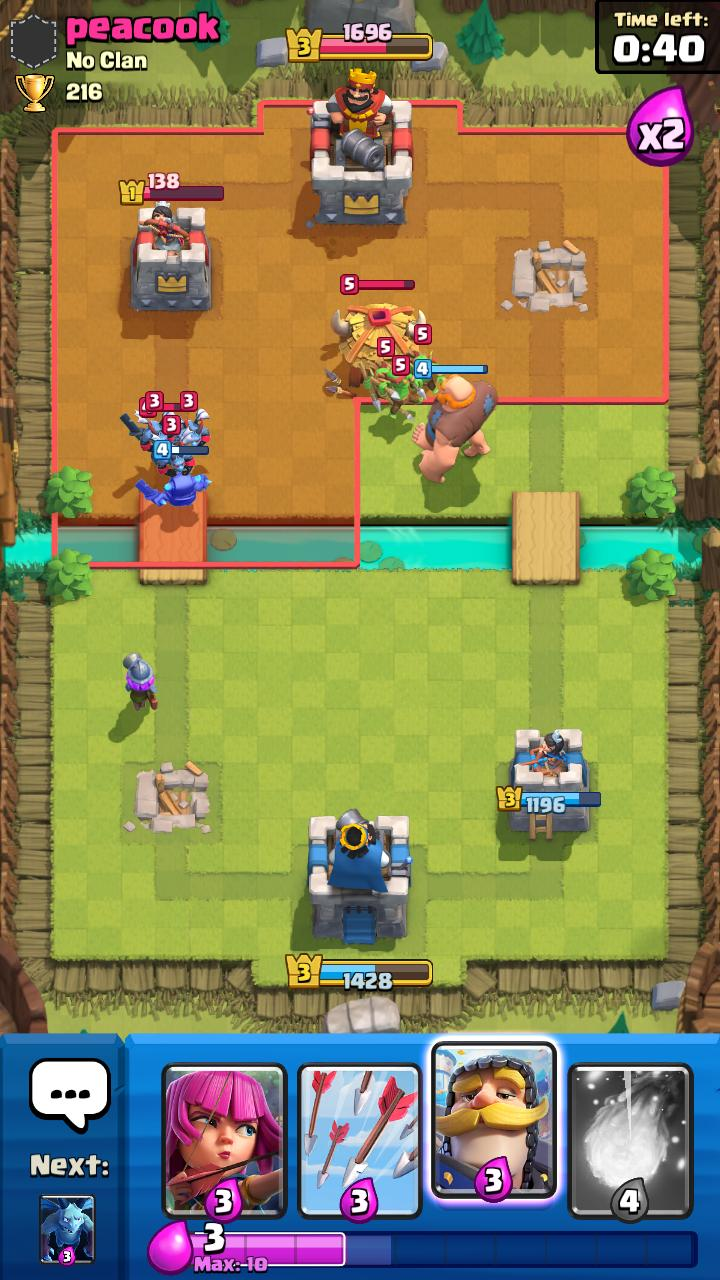ally: (411, 359, 498, 484), (135, 440, 212, 508), (123, 653, 158, 711)
enemy: (325, 274, 427, 398), (370, 355, 423, 419), (358, 337, 395, 412), (410, 324, 446, 400), (151, 415, 195, 477), (120, 397, 159, 465), (140, 391, 176, 452), (172, 391, 210, 446)
